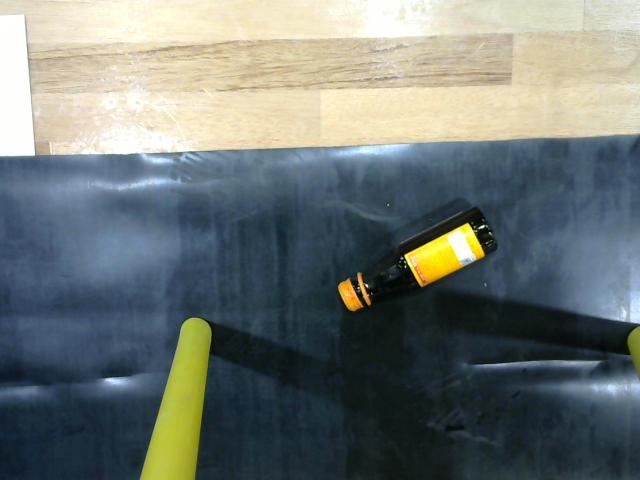glass: (336, 194, 509, 324)
